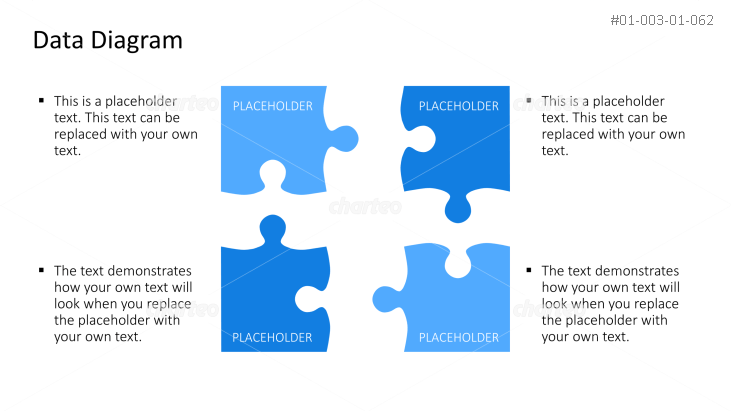puzzle piece: (367, 227, 526, 368), (208, 66, 362, 208), (204, 213, 344, 363), (385, 87, 530, 226)
